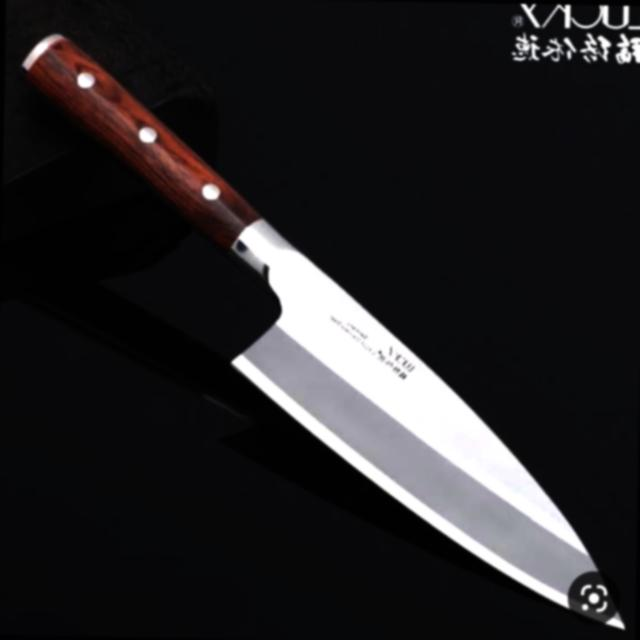knife: (4, 18, 633, 638)
